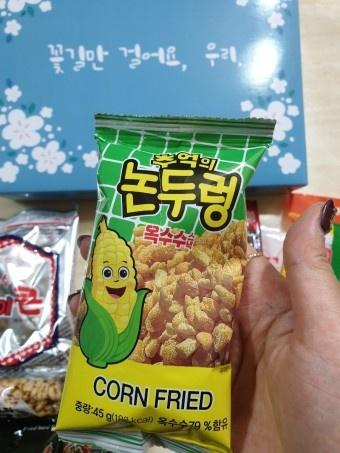snack: (53, 109, 278, 453)
